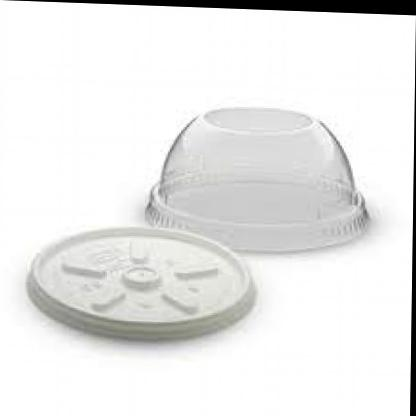Miscellaneous: (21, 55, 386, 403)
